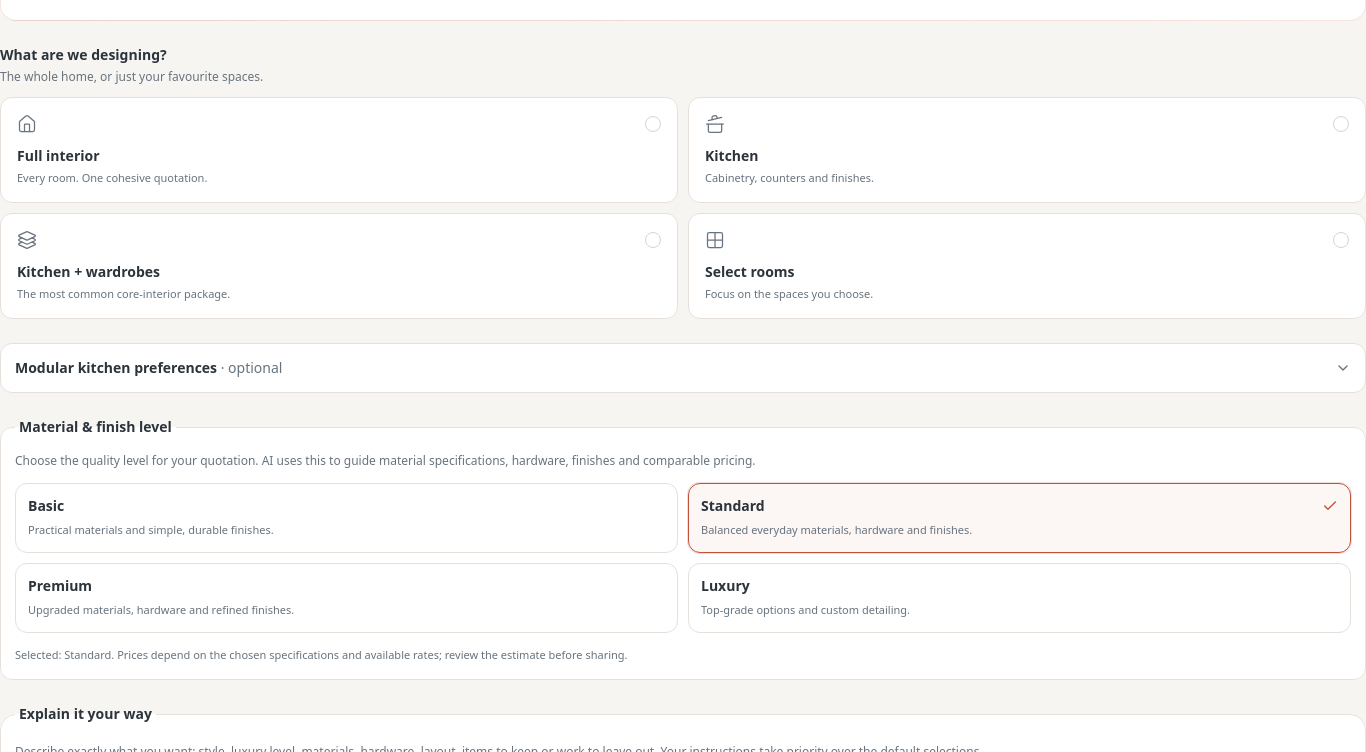
Scenario: collects kitchen preferences in the post-analysis flow and keeps them in the quotation brief
The width and height of the screenshot is (1366, 752).
(page scrolled)
Click the heading "Modular kitchen preferences · optional": [118, 368] box [15, 358, 1351, 378]
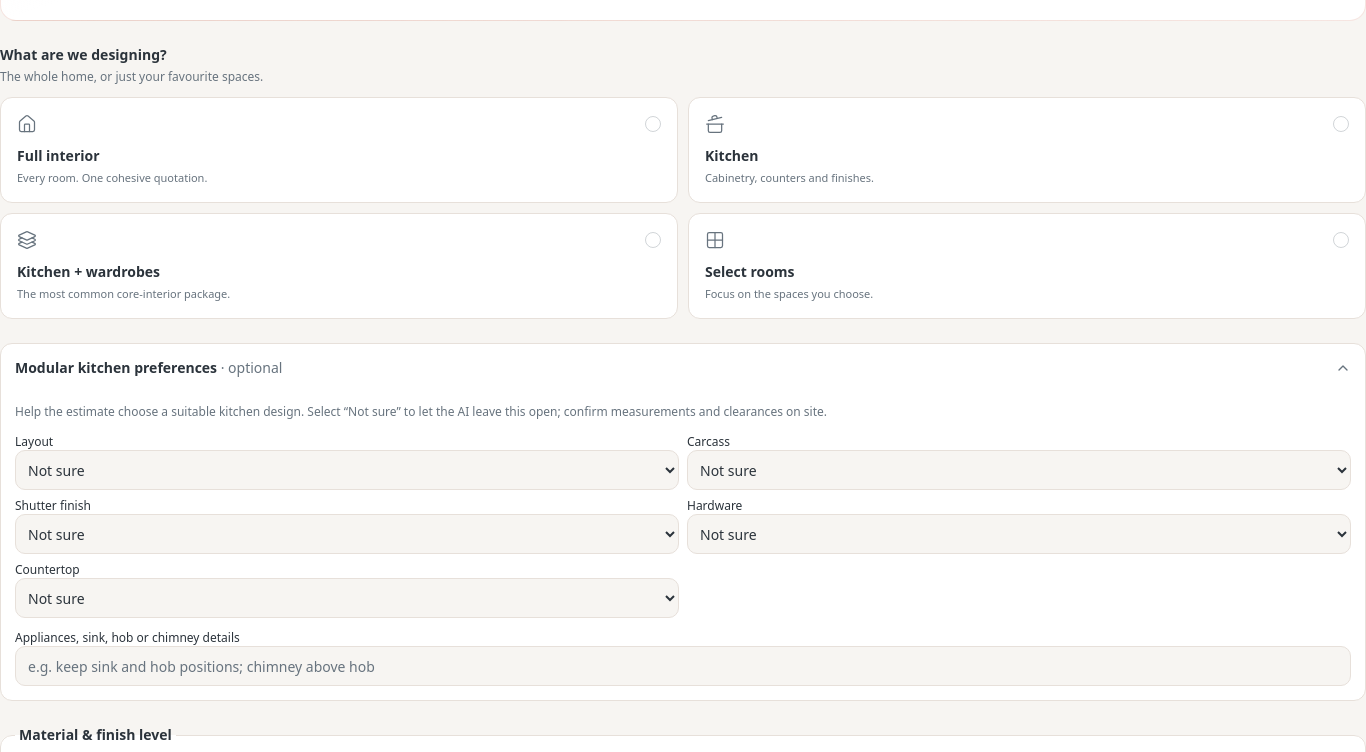
Select "L-shaped" in the dropdown named "Kitchen layout": [347, 470] box [15, 450, 679, 490]
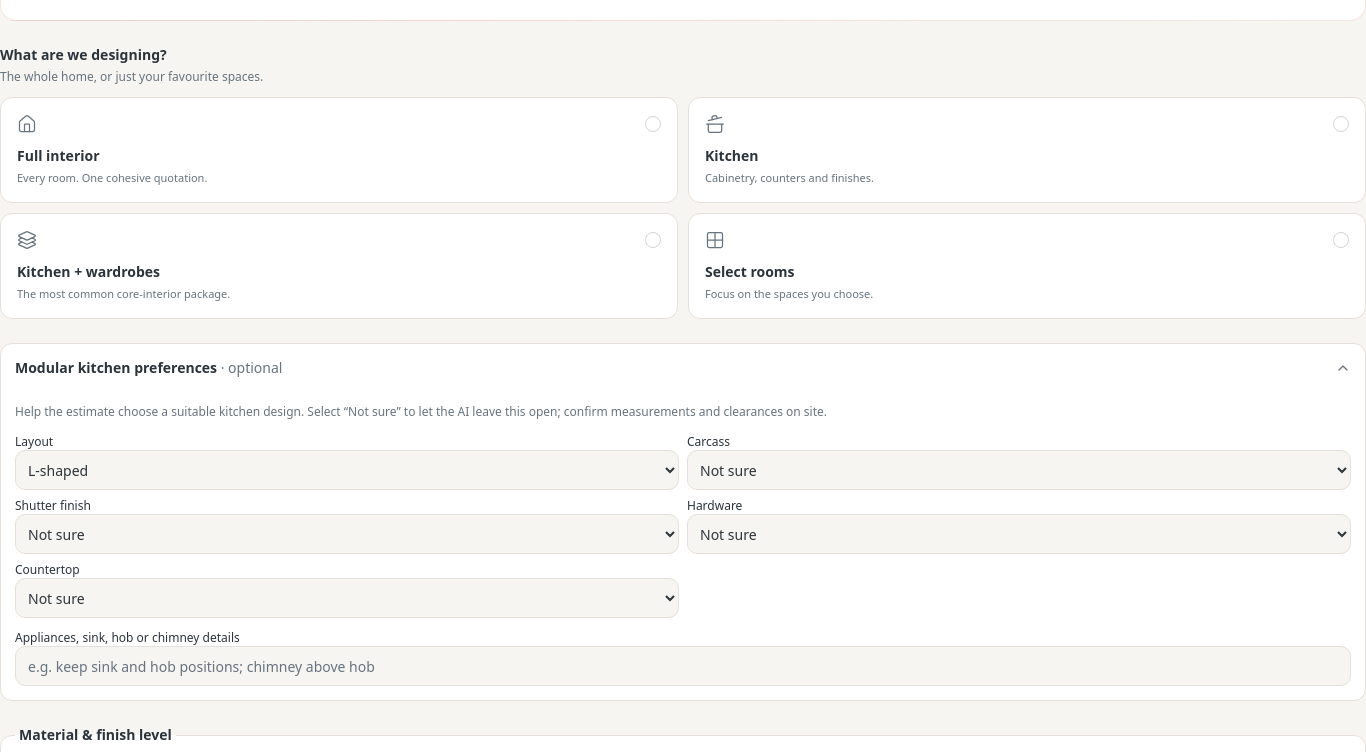
Select "BWR plywood" in the dropdown named "Kitchen carcass": [1019, 470] box [687, 450, 1351, 490]
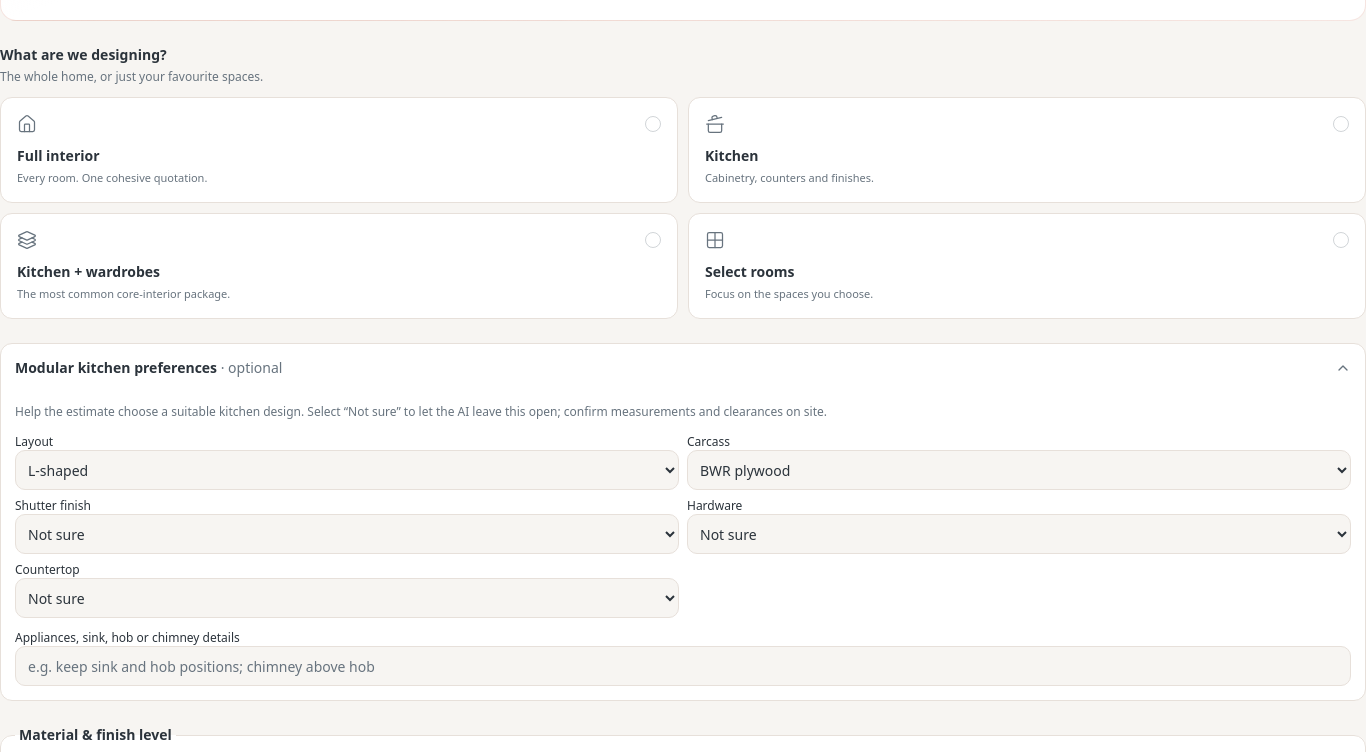
In the field named "Kitchen appliance details": [683, 666] box [15, 646, 1351, 686], type "Keep sink and hob in place."
(page scrolled)
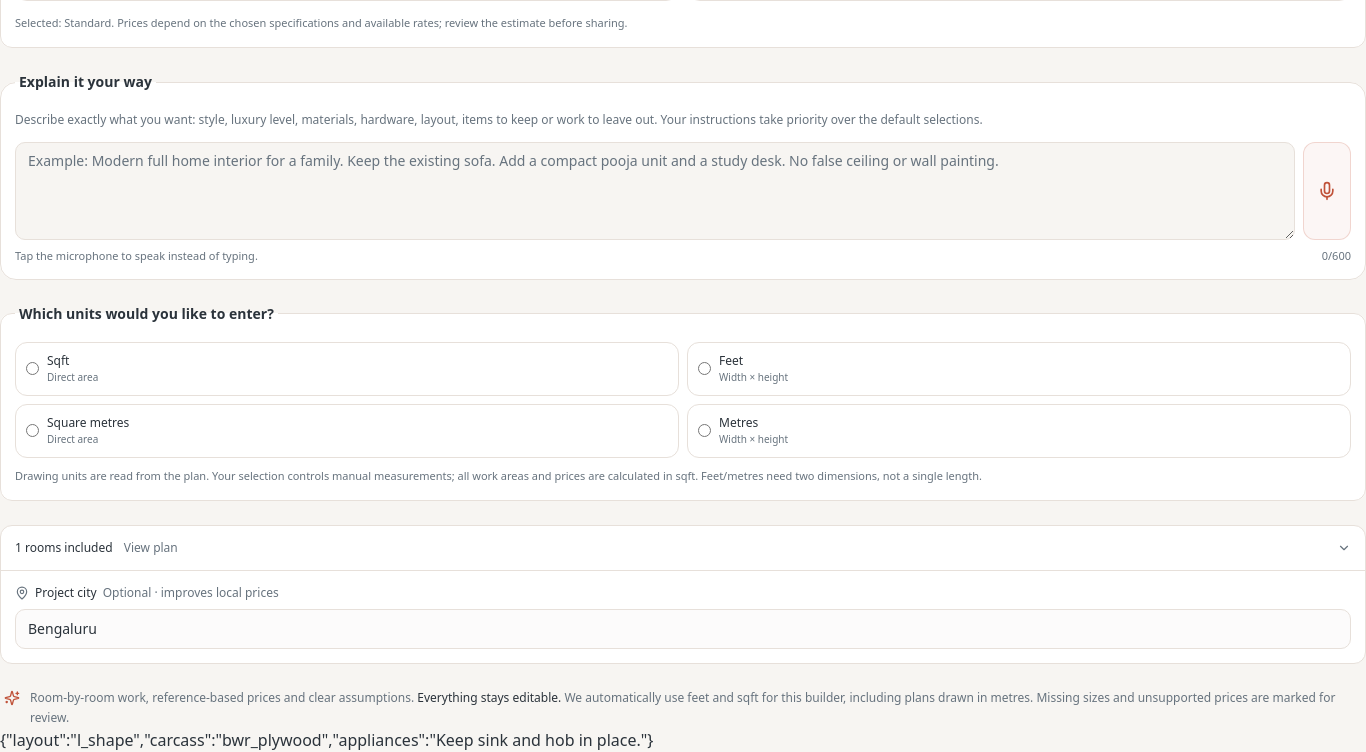
Result: the text "\"layout\":\"l_shape\"" is shown at [0, 728, 653, 750]
Result: the text "\"carcass\":\"bwr_plywood\"" is shown at [0, 728, 653, 750]
Result: the text "Keep sink and hob in place" is shown at [0, 728, 653, 750]
